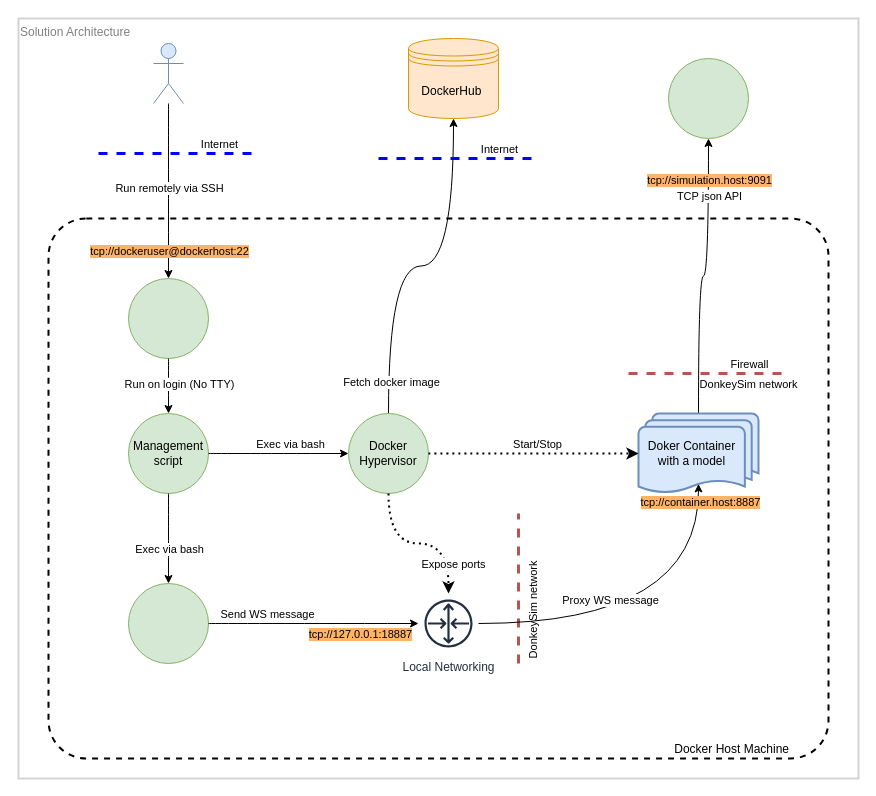
Some shapes in this 876 by 796 pixel diagram are drawn without their labels. The box of each missing label's shape, as (x1, y1, x2, y2) in pixels:
Participant: (152, 42, 184, 104)
Simulation: (668, 58, 748, 138)
SSH Daemon: (128, 278, 208, 358)
Websocat: (128, 582, 208, 664)
